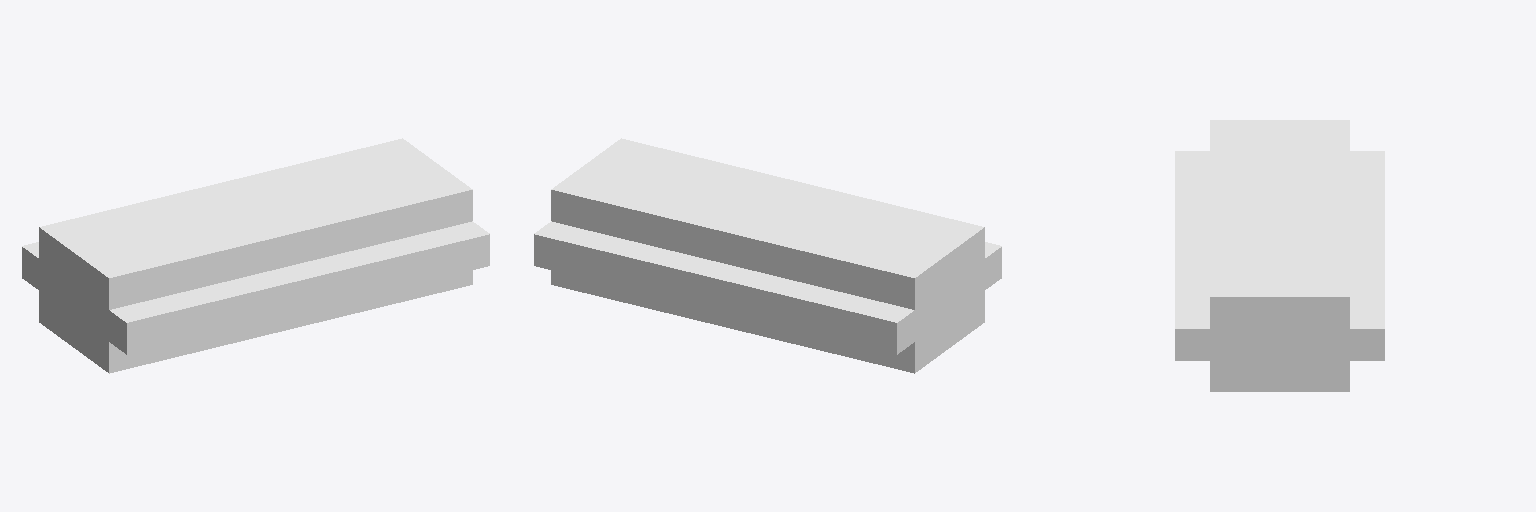
File: muban-0.obj
3 views of the same model, side by side, from view 1: azimuth 30°, elevation 25°; view 2: azimuth 150°, elevation 25°; view 3: azimuth 270°, elevation 25° (orthographic).
Visible parts, largest first — view 1: object 1; view 2: object 1; view 3: object 1.
Part boxes in pixels (bbox=[...]): object 1: bbox=[22, 138, 489, 373]; object 1: bbox=[534, 138, 1001, 373]; object 1: bbox=[1175, 120, 1384, 391].
Bounding box in the file's own units: 1.2 × 0.3 × 0.6.